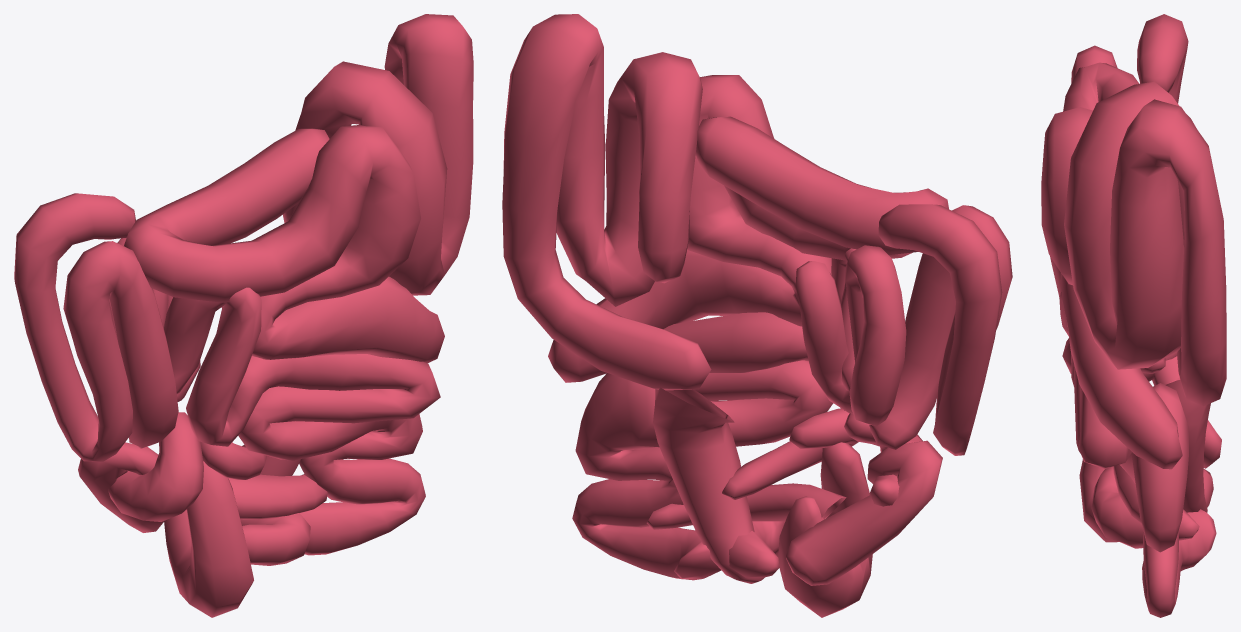
File: Intestine.fbx
3 views of the same model, side by side, from view 1: azimuth 30°, elevation 25°; view 2: azimuth 150°, elevation 25°; view 3: azimuth 270°, elevation 25° (orthographic). The views are drawn at different scales.
Parts seen in each view (by area): view 1: intestine bottom.001; view 2: intestine bottom.001; view 3: intestine bottom.001.
Part boxes in pixels (x1,y1,x2,y2): intestine bottom.001: (14,14,473,617); intestine bottom.001: (502,14,1012,617); intestine bottom.001: (1041,14,1226,617).
Size of the model in its own units: 130 by 143 by 43.3.
1 material, 1 textured.
